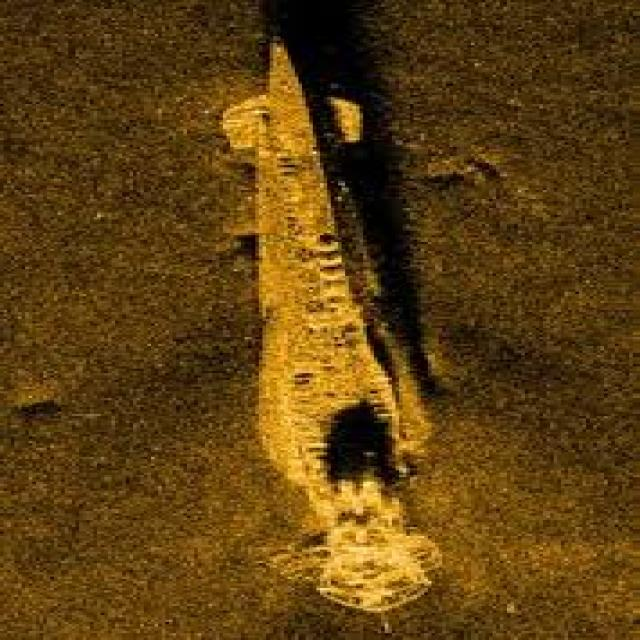ship: (212, 32, 442, 563)
